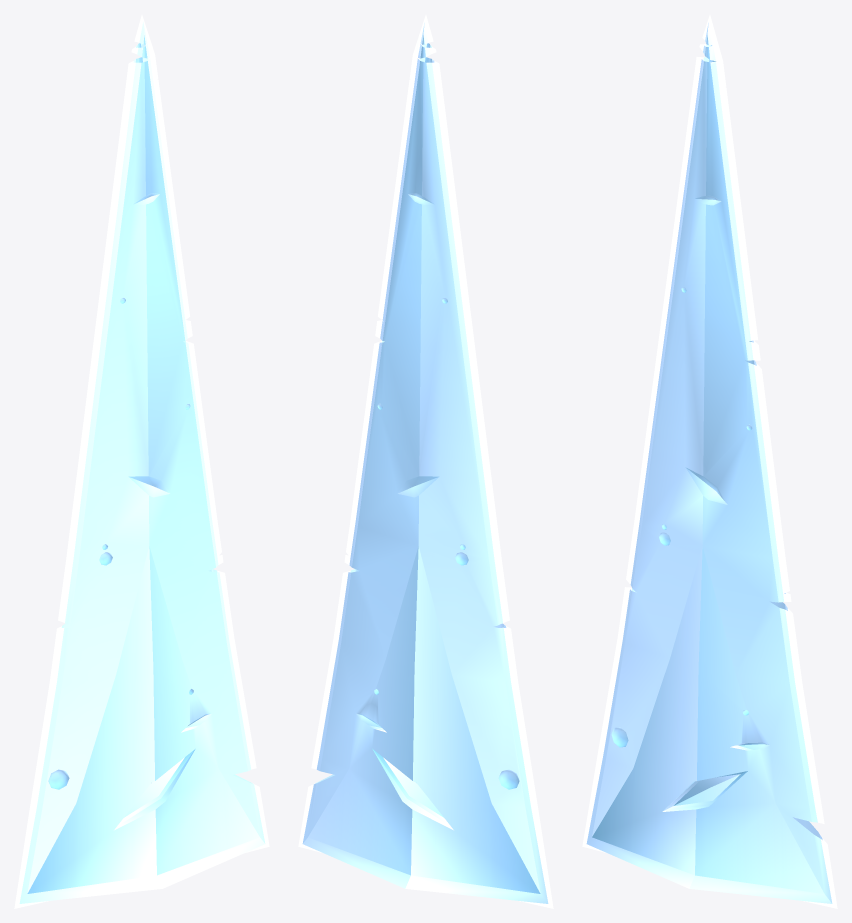
The model's file is steel_blade_bubbles_043.glb.
3 renders of one model, left to right at view 1: azimuth 30°, elevation 25°; view 2: azimuth 150°, elevation 25°; view 3: azimuth 330°, elevation 25°, orthographic.
Parts seen in each view (by area): view 1: steel_blade_bubbles.043; view 2: steel_blade_bubbles.043; view 3: steel_blade_bubbles.043.
Part boxes in pixels (x1,y1,x2,y2): steel_blade_bubbles.043: (14, 15, 269, 908); steel_blade_bubbles.043: (298, 15, 553, 908); steel_blade_bubbles.043: (582, 15, 837, 908).
Bounding box in the file's own units: 3.52 × 11.43 × 0.9907.
Materials: 1 (1 with a texture image).
